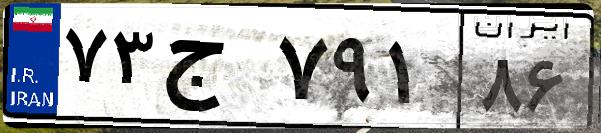1: (385, 28, 445, 110)
3: (110, 28, 158, 98)
6: (525, 38, 570, 115)
7: (270, 28, 330, 110), (57, 26, 110, 100)
8: (475, 38, 525, 113)
9: (330, 28, 385, 110)
ج: (158, 20, 270, 120)
